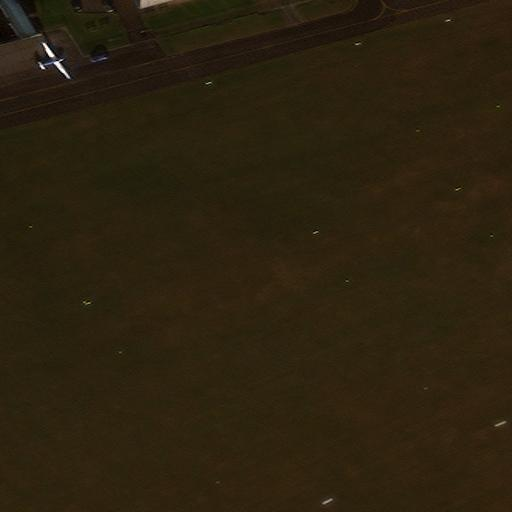Medium Civil Transport: (38, 41, 71, 79)
